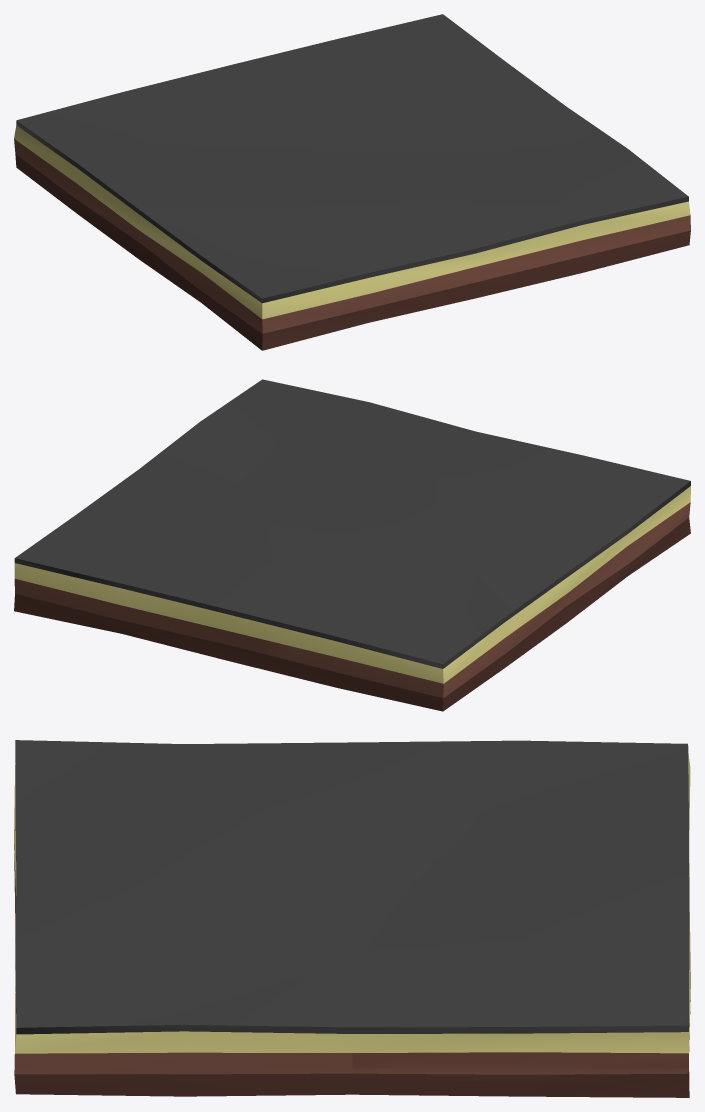
File: socle.fbx
The picture shows the model from 3 angles, top to bottom: view 1: azimuth 30°, elevation 25°; view 2: azimuth 150°, elevation 25°; view 3: azimuth 270°, elevation 25°; orthographic projection. The views are drawn at different scales.
Parts seen in each view (by area): view 1: Floor_6; view 2: Floor_6; view 3: Floor_6.
Boxes of the visible parts, x1,y1,x2,y2 form: Floor_6: (14, 14, 690, 350); Floor_6: (14, 379, 690, 711); Floor_6: (14, 740, 690, 1097).
Bounding box in the file's own units: 2176 × 264 × 2175.
